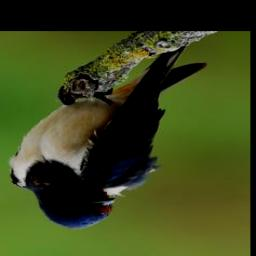Swallow: (8, 44, 210, 230)
